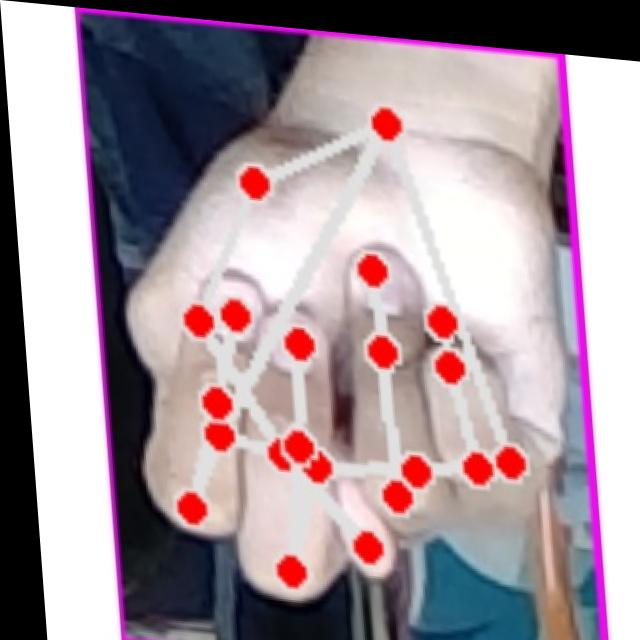N: (101, 61, 581, 640)
